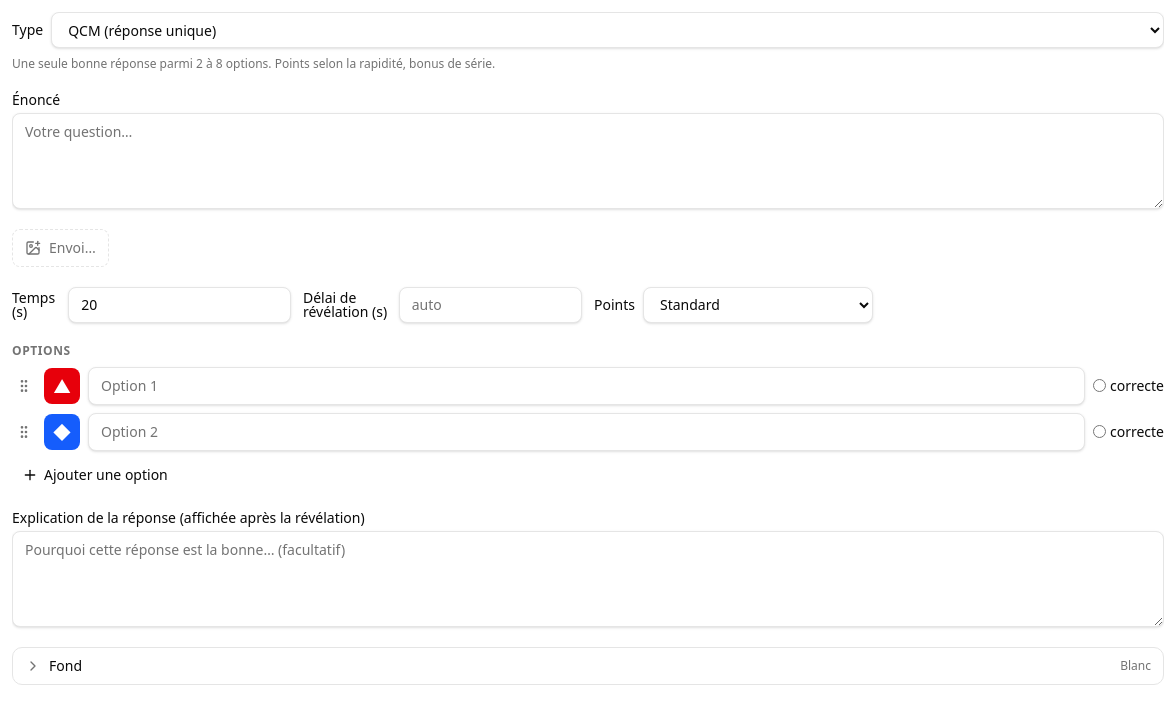
QuestionForm › affiche les champs numériques pour le type numeric
Select "Numérique" in the dropdown labelled "Type" at {"x": 608, "y": 30}, box [51, 12, 1164, 48]
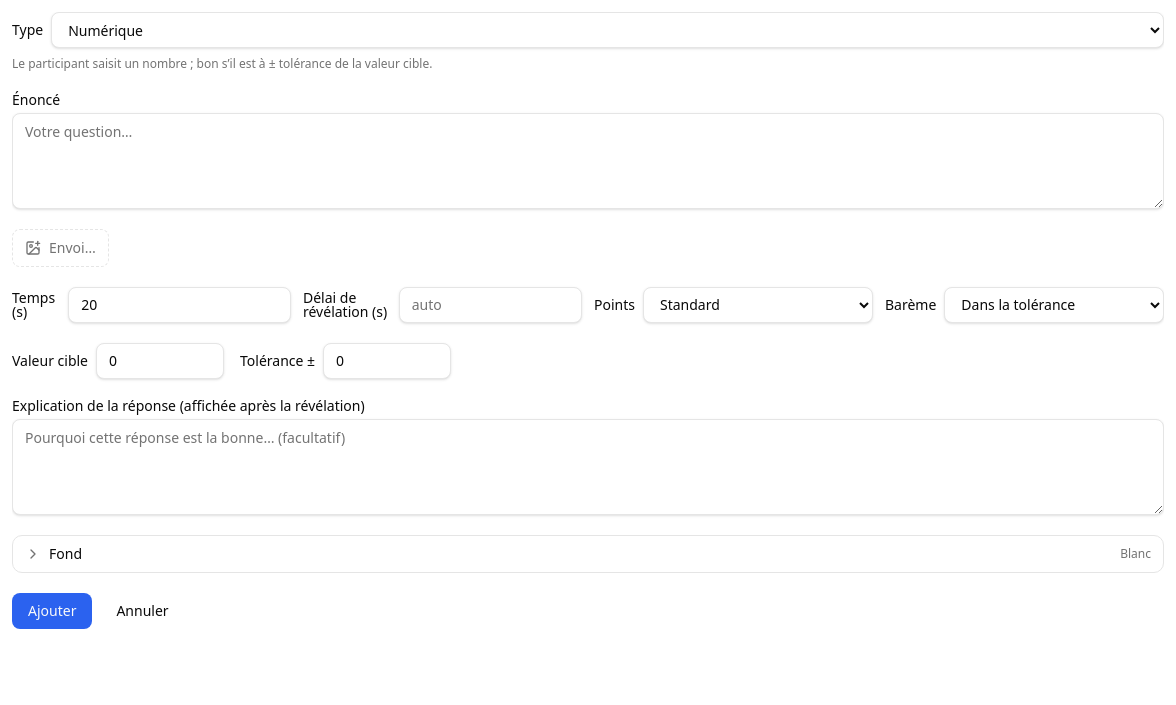
Now the number field labelled "Valeur cible" is shown, box [96, 342, 224, 378]
Now the number field labelled "Tolérance ±" is shown, box [323, 342, 451, 378]
